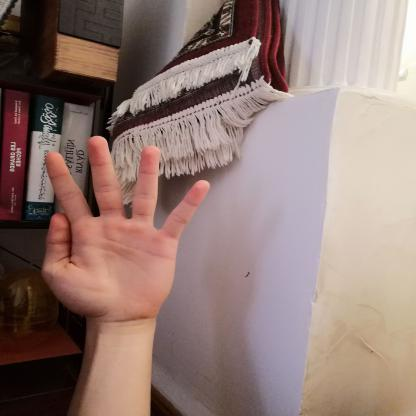SHEEN: (28, 127, 223, 334)
